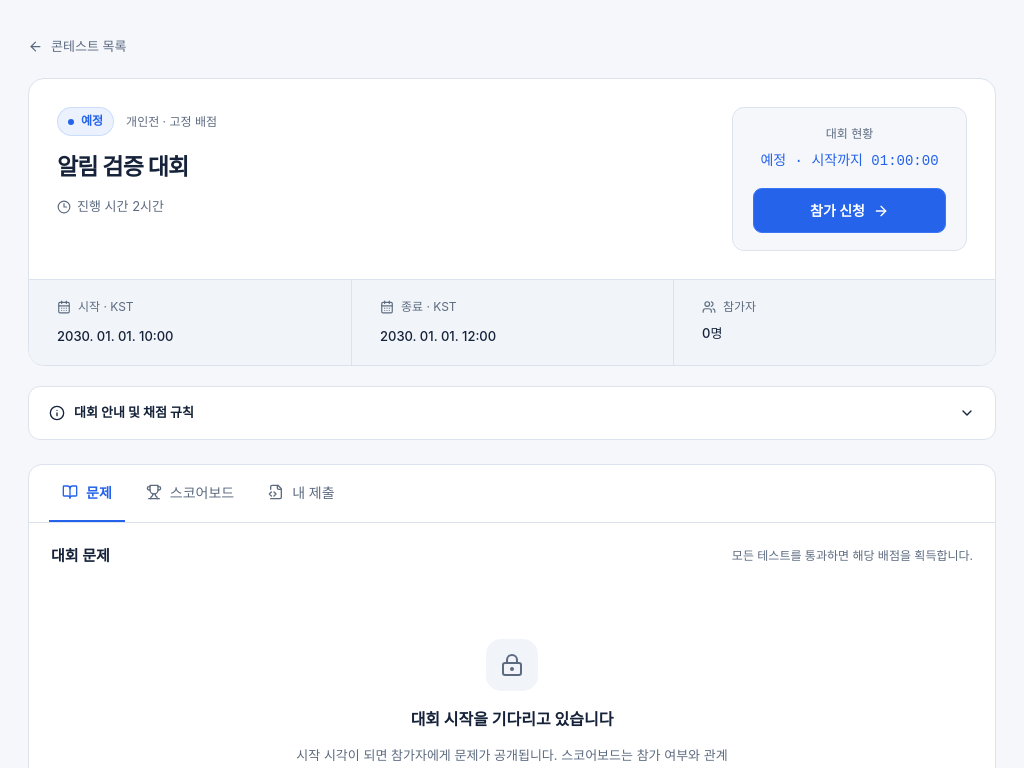
floating contest notifications › renders join feedback outside the page, without an inline error banner
Click the button "참가 신청".
click(850, 211)  # box [753,188,946,233]
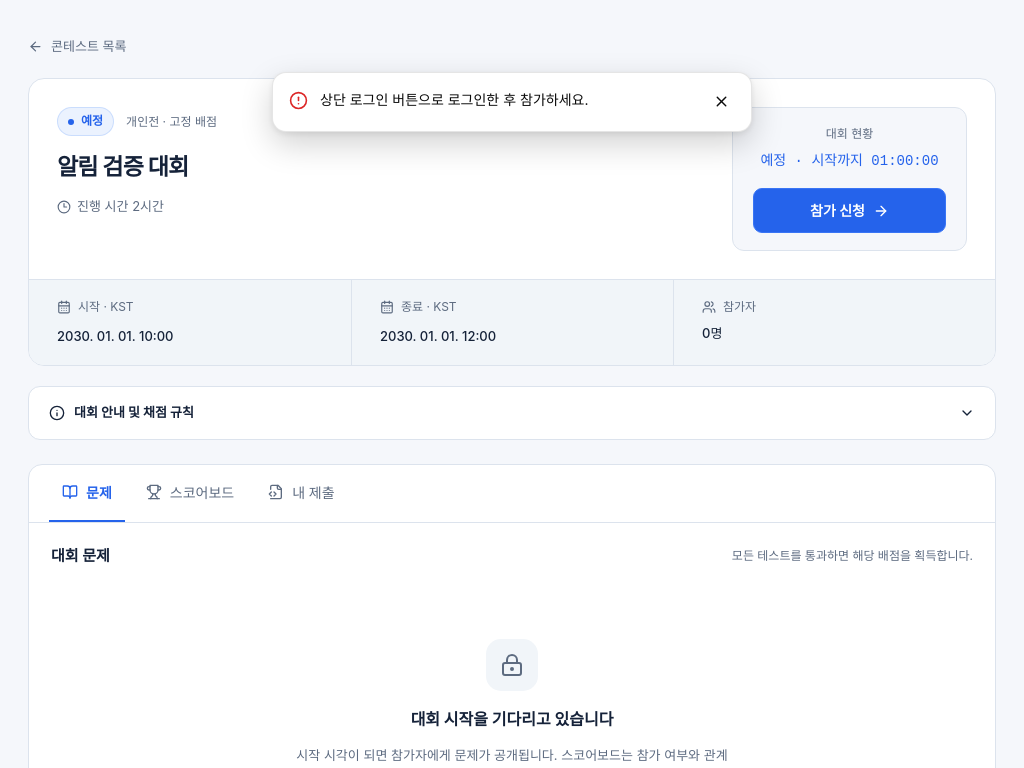
Expected: the heading "알림 검증 대회" is shown, [57,153,188,181]
Expected: the message reads "상단 로그인 버튼으로 로그인한 후 참가하세요.", [320,91,588,108]
